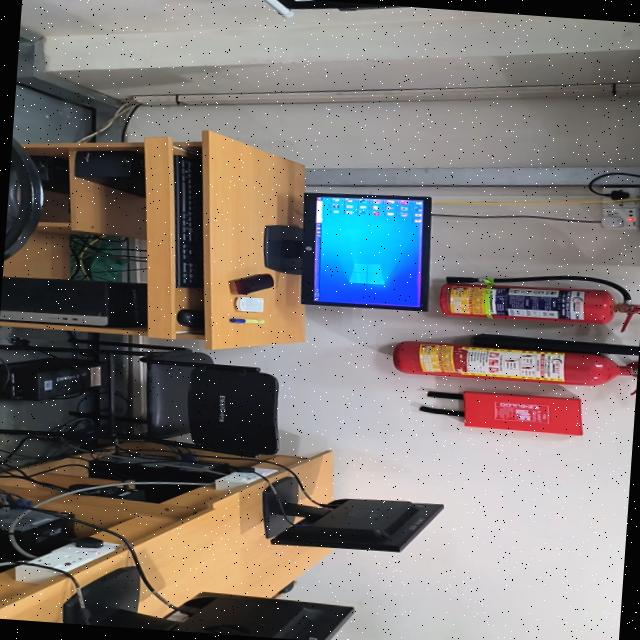Chair: (140, 349, 278, 453), (3, 136, 42, 261)
Cpu: (0, 276, 146, 326), (0, 505, 75, 560), (90, 454, 235, 482), (136, 483, 198, 501)
Fire Extinguisher: (393, 340, 638, 384), (439, 282, 640, 323)
Keyboard: (173, 154, 203, 286)
Monitor: (88, 565, 353, 640), (300, 191, 432, 309), (263, 479, 443, 550), (265, 226, 298, 266)
Mouse: (177, 308, 203, 329)
